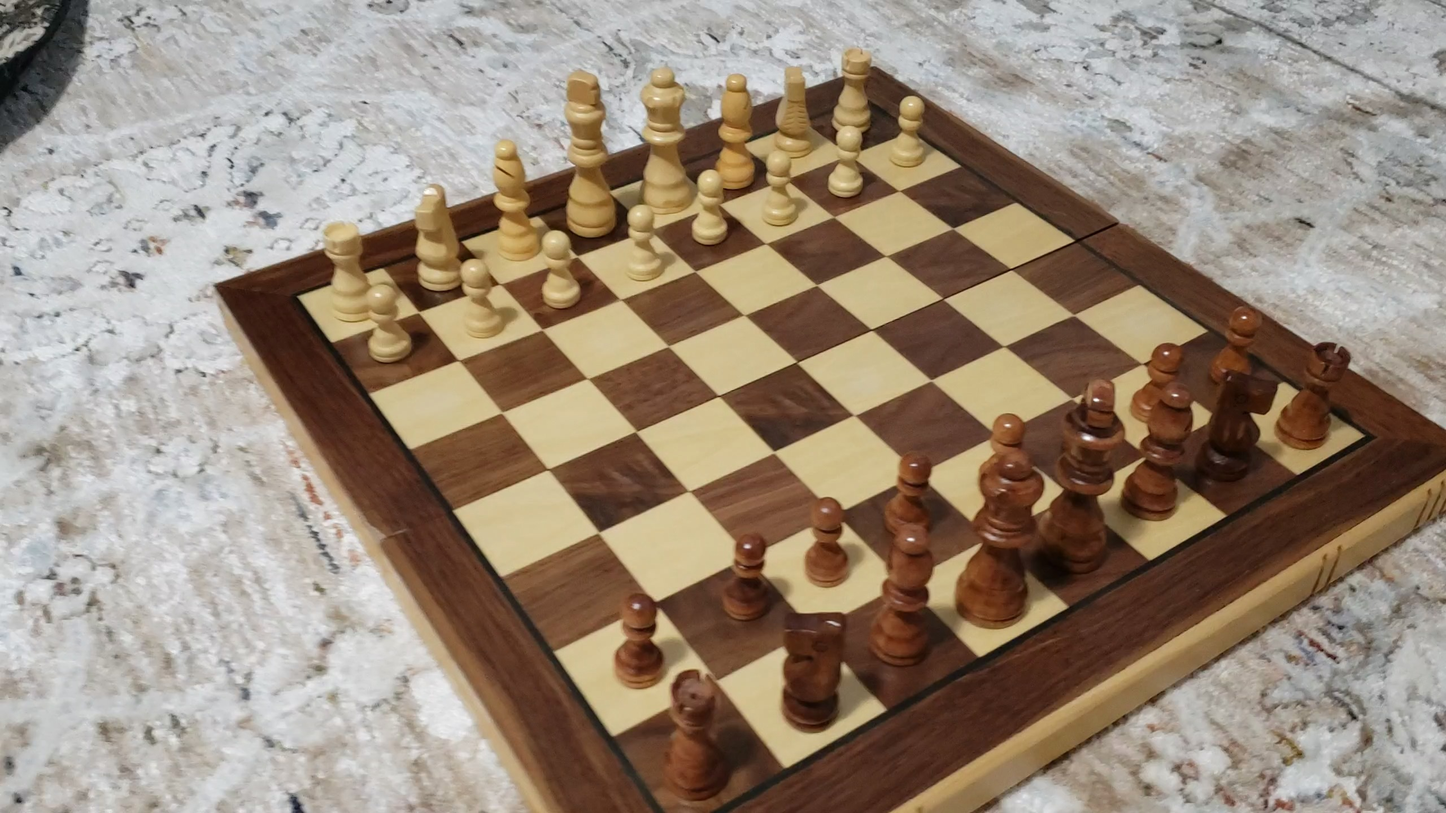black-bishop: (1124, 381, 1196, 520), (870, 517, 936, 667)
black-king: (1038, 375, 1130, 576)
black-knight: (778, 610, 847, 732), (1200, 366, 1269, 483)
black-pawn: (611, 588, 665, 690), (980, 409, 1035, 505), (1127, 338, 1187, 424), (720, 528, 771, 623), (883, 449, 935, 542), (803, 493, 852, 589), (1210, 301, 1264, 386)
black-queen: (953, 435, 1046, 630)
black-rook: (661, 668, 730, 808), (1275, 340, 1353, 451)
white-bishop: (488, 134, 537, 264), (713, 69, 756, 192)
white-king: (559, 64, 619, 242)
white-knight: (411, 182, 465, 295), (775, 58, 817, 160)
white-pawn: (358, 279, 420, 369), (451, 254, 509, 344), (616, 201, 673, 288), (533, 226, 587, 315), (683, 165, 737, 253), (754, 145, 805, 232), (821, 121, 872, 206), (886, 91, 932, 173)
white-queen: (637, 63, 692, 215)
white-rook: (319, 218, 371, 324), (833, 44, 876, 134)
